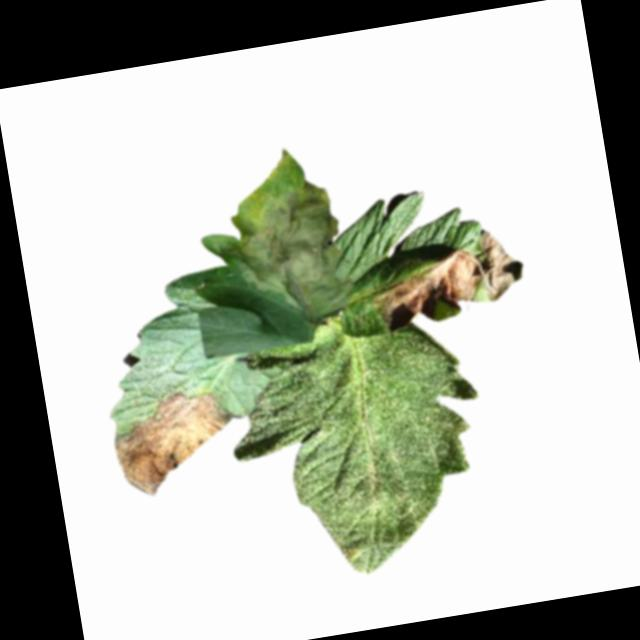Late_blight: (220, 177, 354, 336), (363, 225, 530, 329), (107, 380, 244, 501)
healthy: (214, 298, 505, 592)
